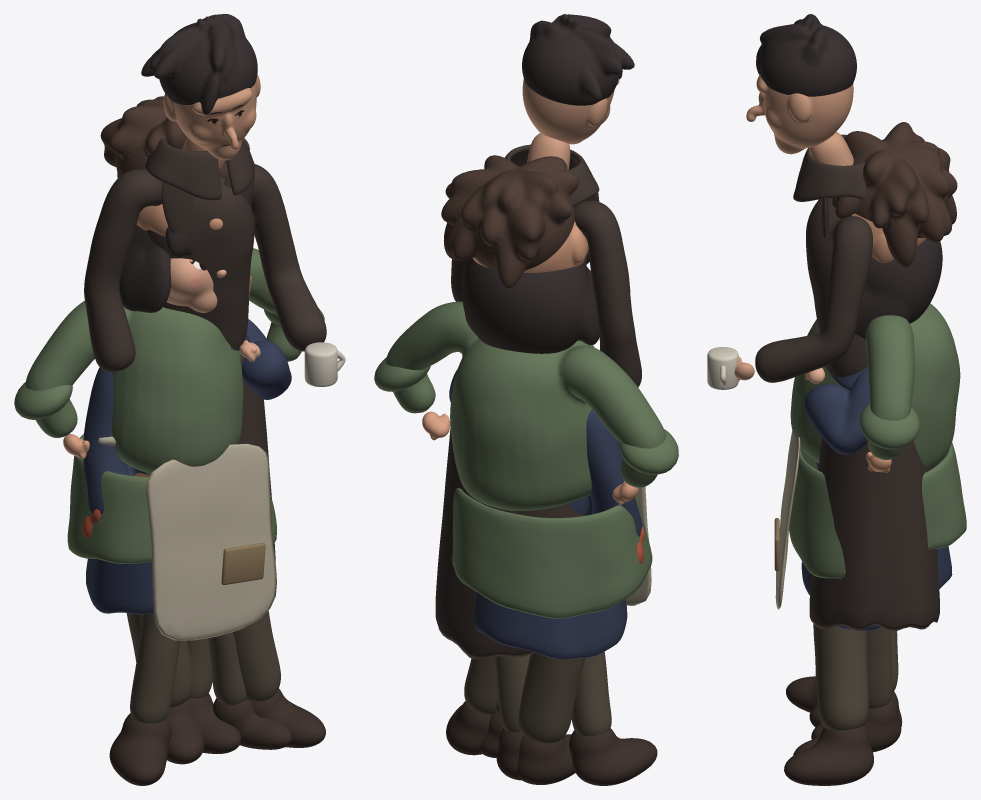
Rendered from Workers.fbx.
3 views of the same model, side by side, from view 1: azimuth 30°, elevation 25°; view 2: azimuth 150°, elevation 25°; view 3: azimuth 270°, elevation 25° (orthographic). The views are drawn at different scales.
Parts seen in each view (by area): view 1: Worker_Round_Top, Worker_Long_Top, Worker_Round_Apron, Worker_Long_Hair, Worker_Round_Skirt, Worker_Small_Top, Worker_Long_Skin, Worker_Round_Hair, Worker_Long_Collar, Worker_Small_Hair, Worker_Long_Leg0, Worker_Small_Skirt (+16 smaller); view 2: Worker_Round_Top, Worker_Round_Skirt, Worker_Round_Hair, Worker_Small_Hair, Worker_Long_Hair, Worker_Long_Top, Worker_Small_Skirt, Worker_Long_Skirt, Worker_Round_Leg0, Worker_Long_Boot0, Worker_Small_Top, Worker_Long_Skin (+14 smaller); view 3: Worker_Long_Skirt, Worker_Round_Top, Worker_Long_Top, Worker_Round_Hair, Worker_Round_Skirt, Worker_Long_Hair, Worker_Round_Leg1, Worker_Small_Hair, Worker_Long_Skin, Worker_Round_Boot1, Worker_Small_Top, Worker_Long_Collar (+9 smaller).
Boxes of the visible parts, x1,y1,x2,y2 form: Worker_Round_Top: (25, 248, 301, 473); Worker_Long_Top: (84, 164, 326, 372); Worker_Round_Apron: (146, 443, 276, 640); Worker_Long_Hair: (141, 14, 257, 114); Worker_Round_Skirt: (67, 434, 276, 563); Worker_Small_Top: (83, 319, 291, 514); Worker_Long_Skin: (163, 74, 260, 160); Worker_Round_Hair: (100, 96, 249, 178); Worker_Long_Collar: (145, 138, 252, 200); Worker_Small_Hair: (119, 218, 255, 312); Worker_Long_Leg0: (130, 613, 180, 723); Worker_Small_Skirt: (86, 558, 153, 614); Worker_Round_Top: (385, 301, 666, 510); Worker_Round_Skirt: (452, 488, 652, 618); Worker_Round_Hair: (441, 155, 579, 288); Worker_Small_Hair: (462, 250, 599, 353); Worker_Long_Hair: (522, 14, 634, 105); Worker_Long_Top: (451, 200, 641, 387); Worker_Small_Skirt: (474, 592, 627, 659); Worker_Long_Skirt: (435, 427, 584, 659); Worker_Round_Leg0: (518, 653, 585, 743); Worker_Long_Boot0: (569, 728, 657, 785); Worker_Small_Top: (449, 369, 642, 536); Worker_Long_Skin: (522, 78, 619, 144); Worker_Long_Skirt: (809, 382, 939, 631); Worker_Round_Top: (790, 303, 960, 468); Worker_Long_Top: (755, 197, 872, 382); Worker_Round_Hair: (832, 122, 957, 267); Worker_Round_Skirt: (789, 442, 966, 578); Worker_Long_Hair: (756, 14, 856, 96); Worker_Round_Leg1: (813, 624, 868, 730); Worker_Small_Hair: (854, 238, 942, 339); Worker_Long_Skin: (746, 74, 853, 154); Worker_Round_Boot1: (784, 725, 873, 785); Worker_Small_Top: (804, 370, 869, 470); Worker_Long_Collar: (793, 134, 866, 201).
Bounding box in the file's own units: 0.8008 × 1.92 × 0.6218.
